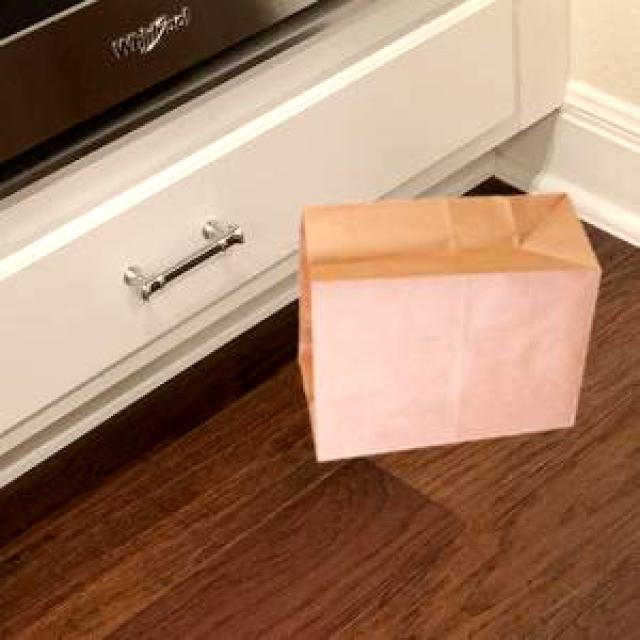Paper_Bag: (296, 191, 598, 458)
